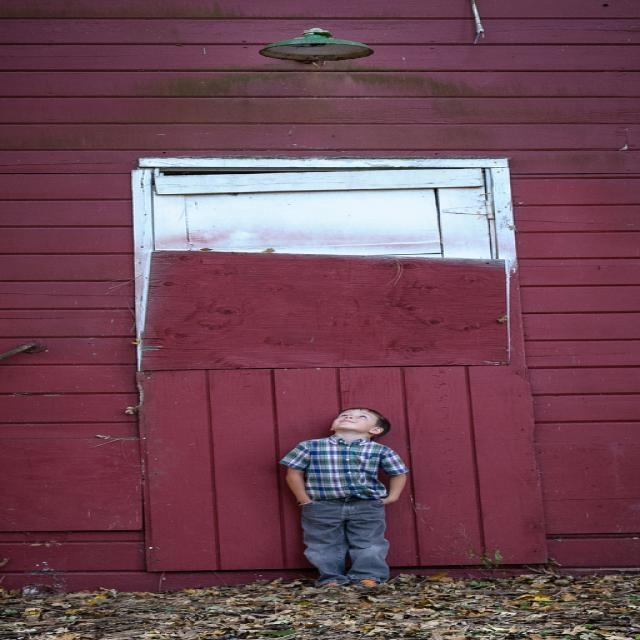door: (132, 157, 528, 576)
